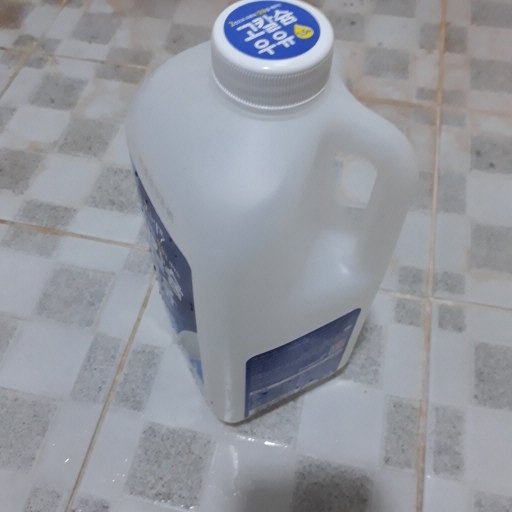Plastic_1: (125, 3, 417, 432)
